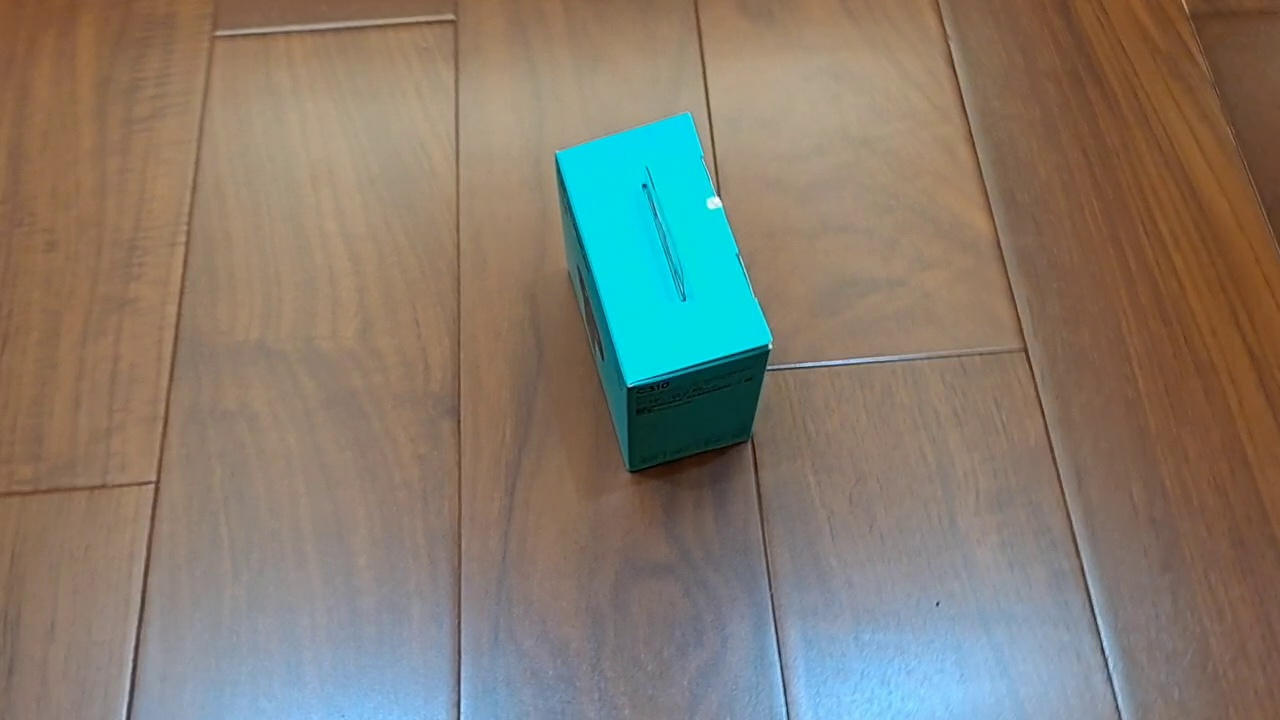webcam: (555, 111, 776, 474)
